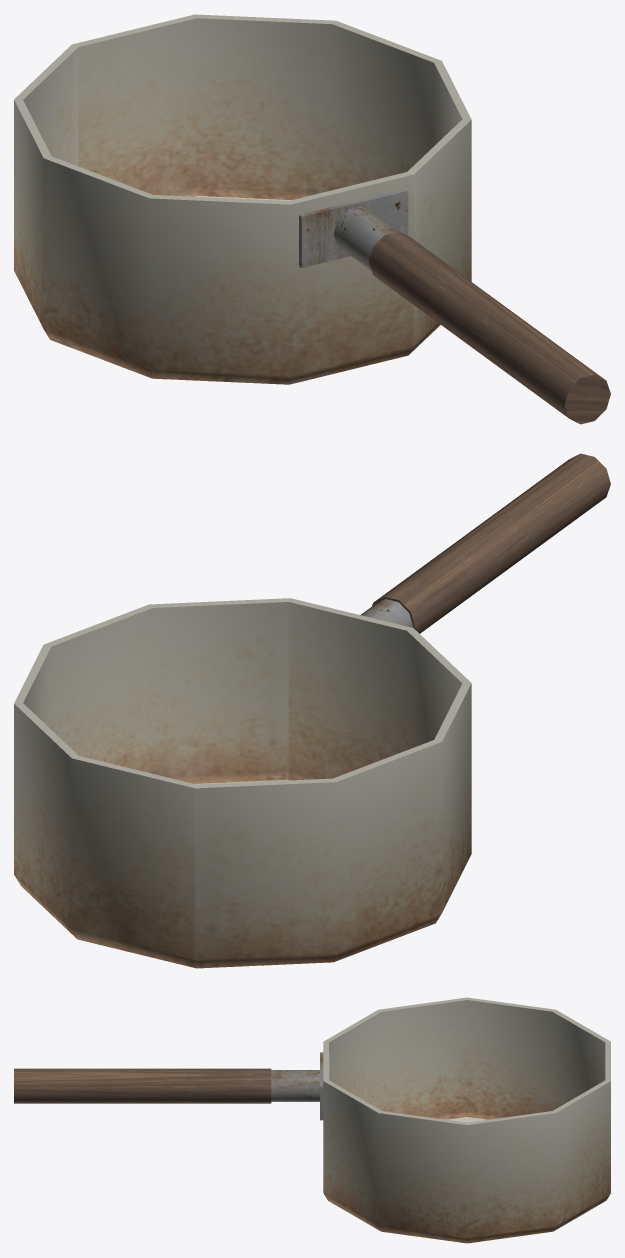
Rendered from pan01.fbx.
3 renders of one model, top to bottom at view 1: azimuth 30°, elevation 25°; view 2: azimuth 150°, elevation 25°; view 3: azimuth 270°, elevation 25°, orthographic. The views are drawn at different scales.
Visible parts, largest first — view 1: pan01; view 2: pan01; view 3: pan01.
Part boxes in pixels (x1,y1,x2,y2): pan01: [14, 14, 610, 424]; pan01: [14, 453, 610, 968]; pan01: [14, 997, 610, 1243].
Size of the model in its own units: 36.6 by 16.07 by 72.29.
